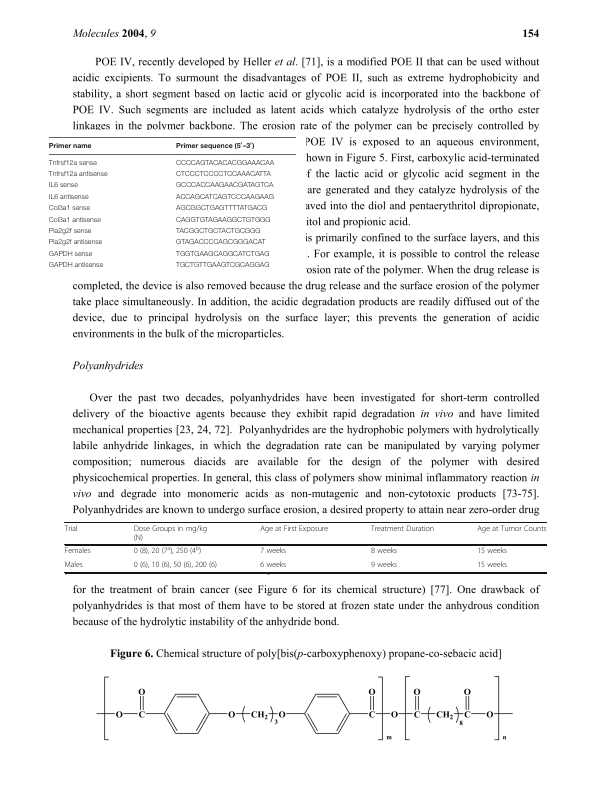borderless: (47, 135, 297, 270), (63, 521, 546, 572)
cell: (133, 525, 208, 543), (175, 159, 275, 168), (175, 193, 275, 202), (175, 170, 271, 179), (175, 261, 270, 270), (133, 561, 218, 571), (175, 204, 268, 213), (133, 545, 202, 557), (175, 182, 274, 190), (175, 227, 261, 236), (175, 216, 271, 224), (175, 250, 270, 258), (175, 239, 266, 247), (175, 142, 255, 150), (476, 525, 547, 534), (259, 525, 329, 534), (370, 525, 435, 534), (48, 170, 108, 179), (48, 261, 104, 270), (48, 159, 97, 168), (48, 239, 103, 247), (48, 216, 101, 224), (48, 227, 92, 236), (48, 204, 91, 213), (48, 193, 89, 202), (48, 250, 93, 258), (48, 142, 92, 150), (476, 547, 508, 557), (476, 561, 508, 571), (259, 547, 287, 557), (370, 547, 398, 557), (259, 561, 287, 571), (370, 561, 398, 571), (64, 547, 91, 557), (48, 182, 78, 190), (63, 561, 84, 571), (64, 525, 78, 534)
